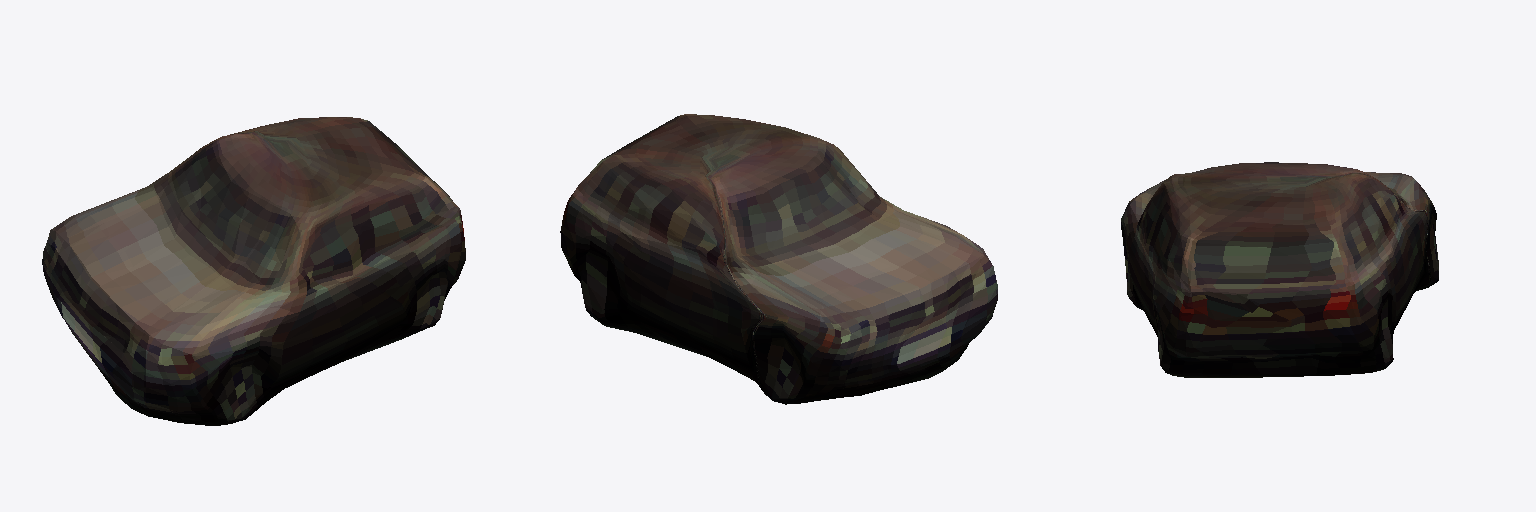
The picture shows the model from 3 angles: view 1: azimuth 30°, elevation 25°; view 2: azimuth 150°, elevation 25°; view 3: azimuth 270°, elevation 25°; orthographic projection.
Size of the model in its own units: 1 by 0.5341 by 0.7997.
Materials: 1 (1 with a texture image).